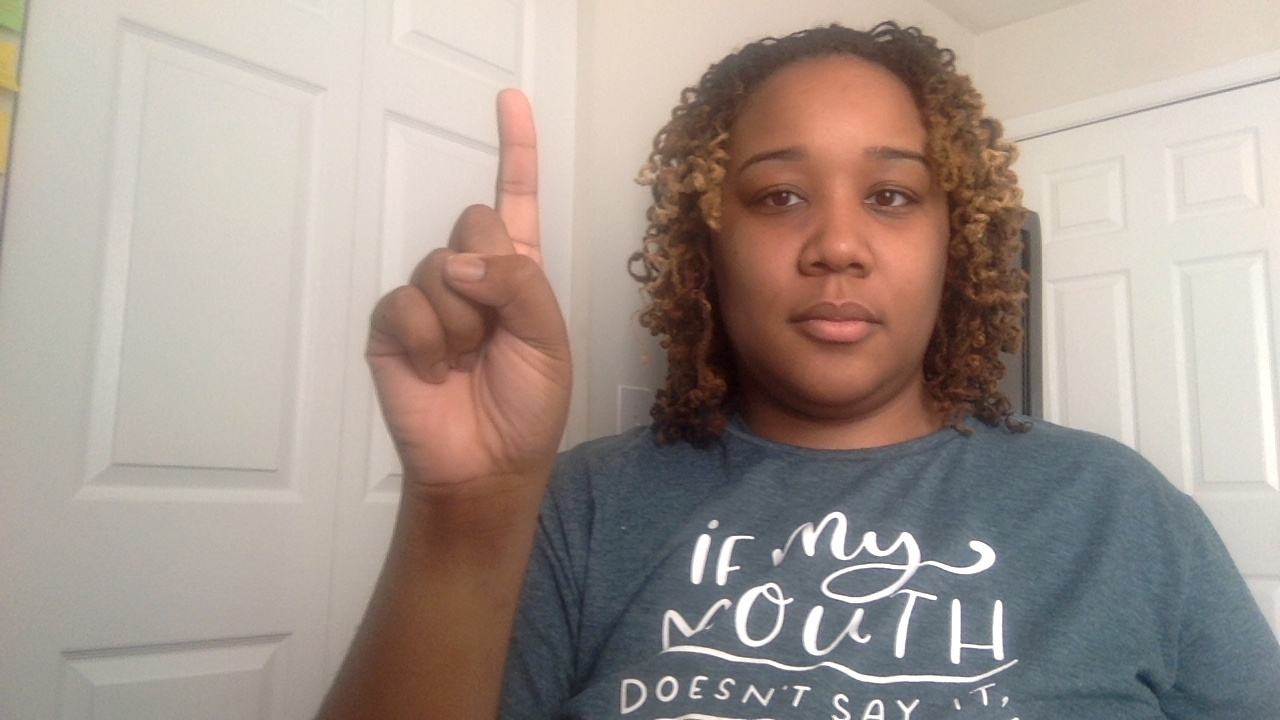up: (320, 78, 610, 720)
